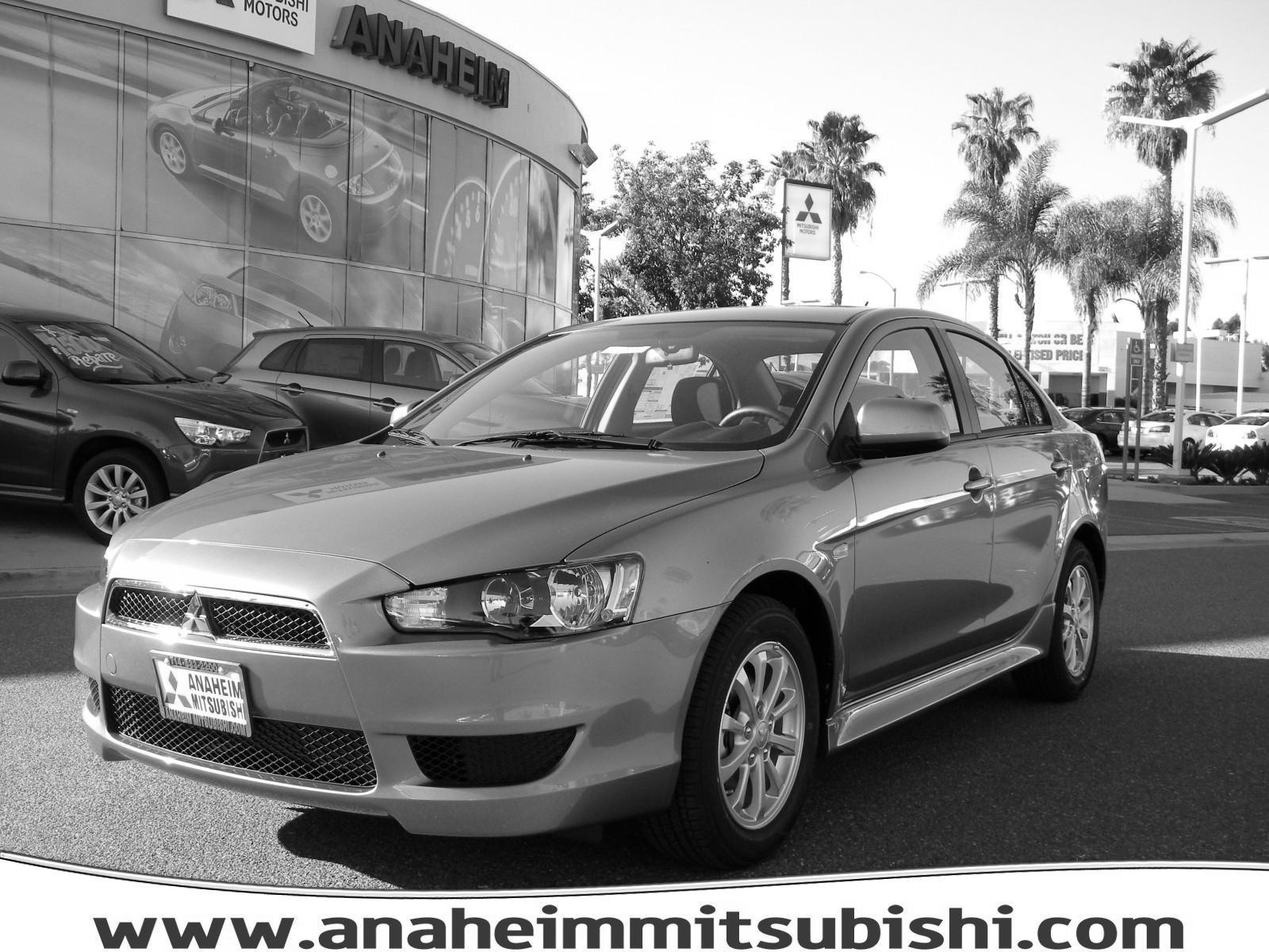car: (75, 305, 1110, 850)
